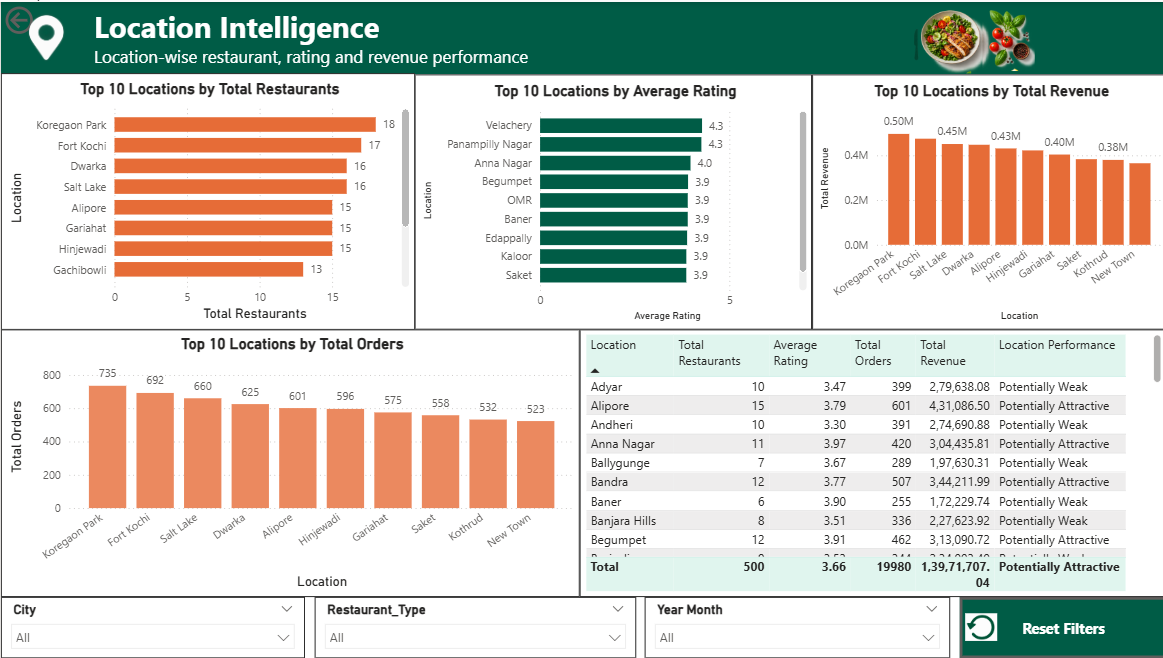

The page's visual inventory and layout, read from the dashboard file:
{"tool":"powerbi","page":{"name":"Location Intelligence","canvas":[1280,720],"ordinal":3},"visuals":[{"type":"textbox","box":[0,0,1280,78.9],"z":0},{"type":"clusteredBarChart","title":"Top 10 Locations by Total Restaurants","fields":{"Category":["locations.Location"],"Y":["restaurants.Total Restaurants"]},"box":[0,78.2,454.2,281.3],"z":1000},{"type":"clusteredBarChart","title":"Top 10 Locations by Average Rating","fields":{"Category":["locations.Location"],"Y":["restaurants.Average Rating"]},"box":[454.2,79.6,436.4,279.9],"z":2000},{"type":"clusteredColumnChart","title":"Top 10 Locations by Total Revenue","fields":{"Category":["locations.Location"],"Y":["orders.Total Revenue"]},"box":[890.6,79.6,389.7,279.9],"z":3000},{"type":"clusteredColumnChart","title":"Top 10 Locations by Total Orders","fields":{"Category":["locations.Location"],"Y":["orders.Total Orders"]},"box":[0,359.5,635.3,293.7],"z":4000},{"type":"slicer","fields":{"Values":["locations.City"]},"box":[0,653.2,333.4,67.2],"z":5000},{"type":"slicer","fields":{"Values":["restaurants.Restaurant_Type"]},"box":[344.4,653.2,352.7,67.2],"z":6000},{"type":"slicer","fields":{"Values":["Date_Table.Year Month"]},"box":[706.7,653.2,334.8,67.2],"z":7000},{"type":"actionButton","box":[1052.5,653.2,227.8,67.2],"z":8000},{"type":"tableEx","fields":{"Values":["locations.Location","restaurants.Total Restaurants","restaurants.Average Rating","orders.Total Orders","orders.Total Revenue","Date_Table.Location Performance"]},"box":[635.3,359.5,644.9,293.7],"z":9000},{"type":"actionButton","box":[0,0,100,40],"z":10000},{"type":"image","box":[997.6,0,87.8,78.2],"z":11000},{"type":"image","box":[1066.2,1.4,79.6,74.1],"z":12000},{"type":"image","box":[0,0,100.2,79.6],"z":13000},{"type":"image","box":[1055.2,671,41.2,30.2],"z":14000}]}

Visuals, with their boxes in screenshot pixels (x1, y1, x2, y2), scaled from the page's 1280x720 canvas onto the 1163x658 screenshot:
textbox: locate(0, 0, 1162, 72)
"Top 10 Locations by Total Restaurants" clusteredBarChart: locate(0, 71, 413, 329)
"Top 10 Locations by Average Rating" clusteredBarChart: locate(413, 73, 809, 329)
"Top 10 Locations by Total Revenue" clusteredColumnChart: locate(809, 73, 1162, 329)
"Top 10 Locations by Total Orders" clusteredColumnChart: locate(0, 329, 577, 597)
slicer - locations.City: locate(0, 597, 303, 657)
slicer - restaurants.Restaurant_Type: locate(313, 597, 633, 657)
slicer - Date_Table.Year Month: locate(642, 597, 946, 657)
actionButton: locate(956, 597, 1162, 657)
tableEx - locations.Location x restaurants.Total Restaurants: locate(577, 329, 1162, 597)
actionButton: locate(0, 0, 91, 37)
image: locate(906, 0, 986, 71)
image: locate(969, 1, 1041, 69)
image: locate(0, 0, 91, 73)
image: locate(959, 613, 996, 641)
